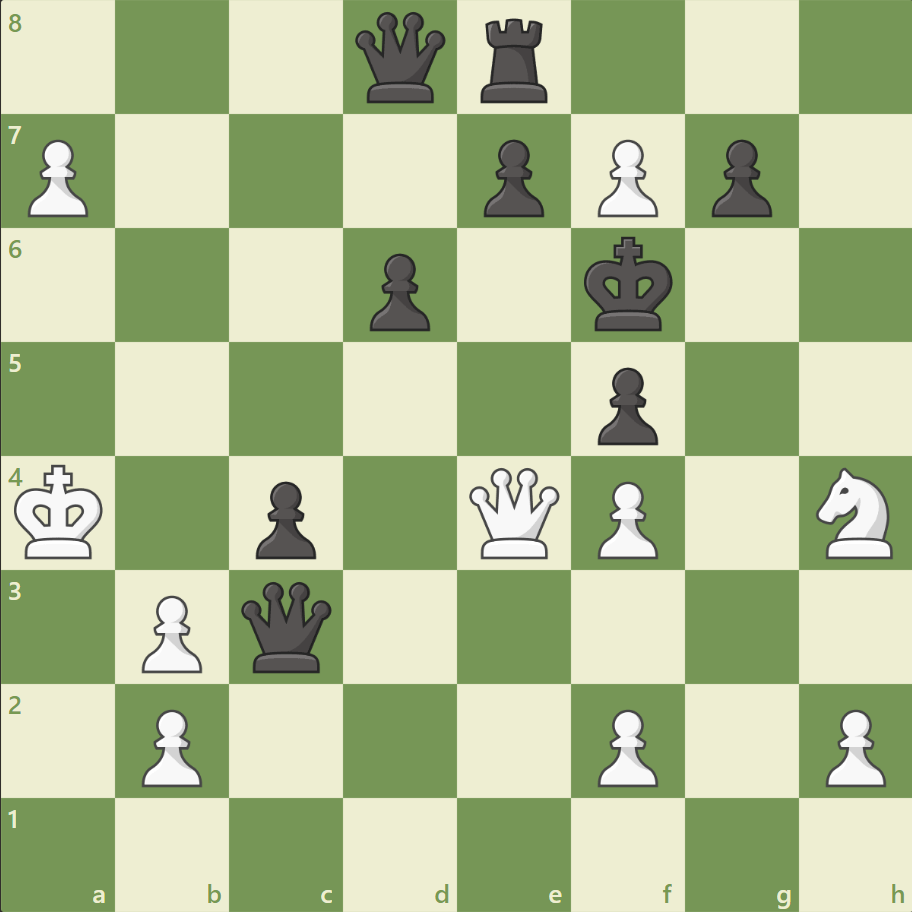K: (11, 458, 111, 566)
N: (806, 461, 903, 564)
P: (20, 132, 95, 223), (133, 586, 208, 677), (133, 700, 208, 791), (588, 132, 662, 223), (588, 473, 662, 564), (588, 700, 662, 791), (815, 700, 889, 791)
Q: (464, 463, 563, 562)
k: (579, 231, 679, 339)
p: (474, 132, 549, 223), (701, 132, 776, 223), (247, 473, 322, 564), (361, 246, 435, 337), (588, 359, 662, 450)
q: (237, 576, 336, 676), (351, 9, 450, 108)
r: (473, 12, 556, 109)
